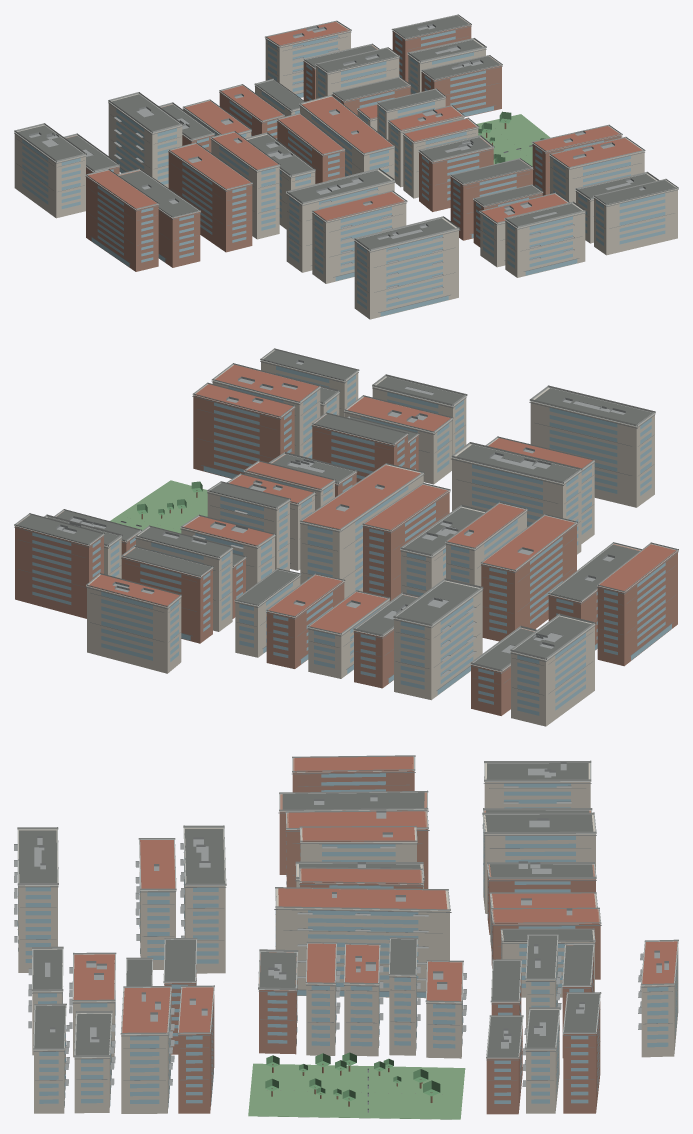
Rendered from tile-m002-m003.glb.
3 renders of one model, top to bottom at view 1: azimuth 30°, elevation 25°; view 2: azimuth 150°, elevation 25°; view 3: azimuth 270°, elevation 25°, orthographic. The views are drawn at different scales.
Visible parts, largest first — view 1: building-0233-mesh-43, building-0234-mesh-50, building-0166-mesh-5, building-0386-mesh-213, building-0171-mesh-16, building-0323-mesh-130, building-0232-mesh-36, building-0233-mesh-44, building-0239-mesh-82, building-0231-mesh-29, building-0388-mesh-220, building-0325-mesh-137 (+72 smaller); view 2: building-0233-mesh-43, building-0390-mesh-233, building-0234-mesh-50, building-0383-mesh-193, building-0166-mesh-5, building-0337-mesh-186, building-0239-mesh-82, building-0171-mesh-16, building-0231-mesh-29, building-0238-mesh-75, building-0237-mesh-70, building-0330-mesh-169 (+78 smaller); view 3: neighborhood-park-block-084-mesh-0, building-0238-mesh-75, building-0238-mesh-79, building-0384-mesh-199, building-0238-mesh-76, building-0390-mesh-233, building-0231-mesh-29, building-0239-mesh-82, building-0383-mesh-193, building-0167-mesh-13, building-0171-mesh-16, building-0325-mesh-137 (+81 smaller).
Boxes of the visible parts, x1,y1,x2,y2 form: building-0233-mesh-43: (354,218,458,319); building-0234-mesh-50: (168,144,252,252); building-0166-mesh-5: (86,176,158,271); building-0386-mesh-213: (594,181,677,255); building-0171-mesh-16: (14,125,85,218); building-0323-mesh-130: (505,203,585,277); building-0232-mesh-36: (312,192,406,283); building-0233-mesh-44: (357,235,448,316); building-0239-mesh-82: (108,94,182,187); building-0231-mesh-29: (286,170,394,272); building-0388-mesh-220: (421,56,501,117); building-0325-mesh-137: (419,137,493,211); building-0233-mesh-43: (530,388,654,507); building-0390-mesh-233: (15,515,103,618); building-0234-mesh-50: (481,515,576,641); building-0383-mesh-193: (193,384,294,478); building-0166-mesh-5: (597,545,677,666); building-0337-mesh-186: (87,575,181,673); building-0239-mesh-82: (394,581,482,700); building-0171-mesh-16: (511,616,594,726); building-0231-mesh-29: (452,444,581,554); building-0238-mesh-75: (300,465,423,598); building-0237-mesh-70: (363,485,449,601); building-0330-mesh-169: (122,547,212,643); neighborhood-park-block-084-mesh-0: (248,1063,465,1119); building-0238-mesh-75: (275,889,449,998); building-0238-mesh-79: (278,888,447,909); building-0384-mesh-199: (121,989,171,1113); building-0238-mesh-76: (275,910,425,997); building-0390-mesh-233: (563,1001,600,1113); building-0231-mesh-29: (184,828,225,973); building-0239-mesh-82: (483,815,595,913); building-0383-mesh-193: (178,995,214,1113); building-0167-mesh-13: (282,792,424,809); building-0171-mesh-16: (484,763,590,808); building-0325-mesh-137: (259,952,297,1054).
Bounding box in the file's own units: 257 × 38.63 × 253.
